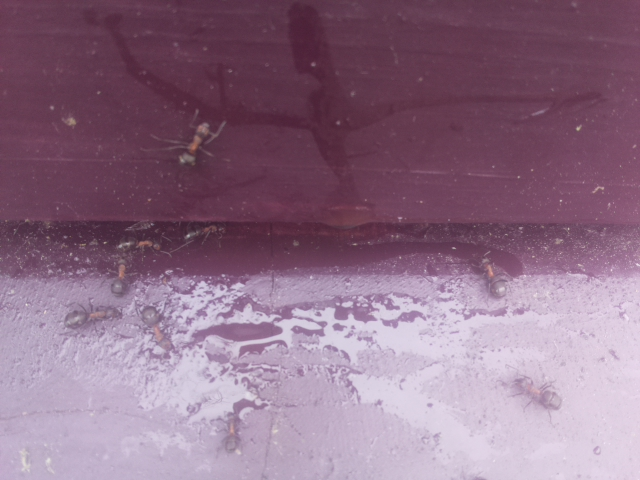ant: (507, 370, 567, 416), (172, 114, 215, 172), (476, 243, 512, 311), (59, 303, 123, 333), (137, 304, 175, 349), (217, 409, 246, 457), (183, 218, 228, 243), (112, 236, 167, 252), (108, 259, 131, 297)
